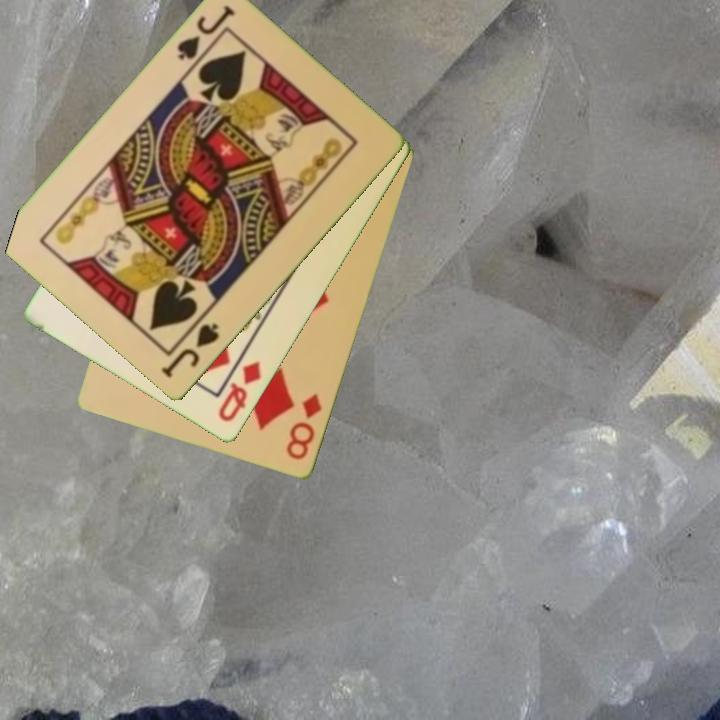8d: (283, 390, 325, 464)
Js: (173, 2, 238, 72), (157, 320, 223, 382)
Qd: (214, 357, 264, 426)
